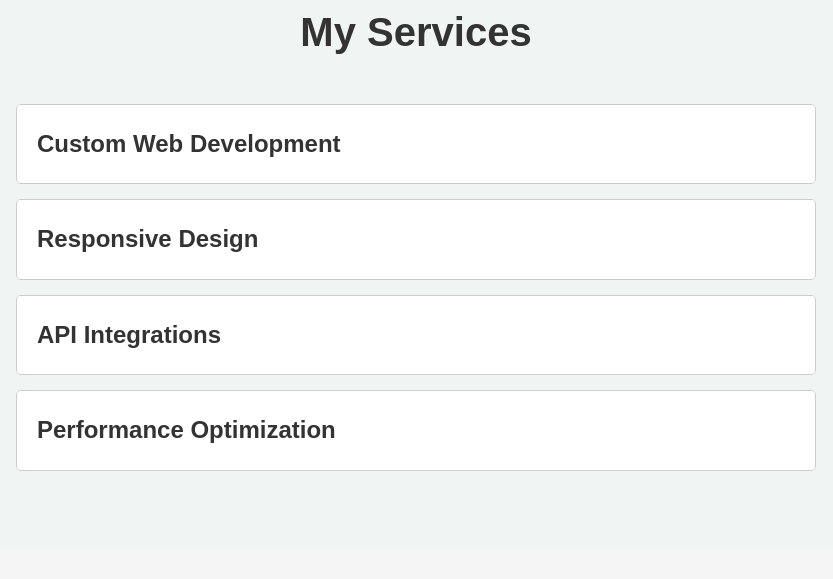
renders Services component and expands accordion items on click
Expected: the text "Responsive Design" is shown, [17, 200, 815, 279]
Expected: the text "API Integrations" is shown, [17, 296, 815, 374]
# Test clicking on accordion to expand content
Step 1. Click the text "Custom Web Development" → click(416, 144), box [17, 105, 815, 183]
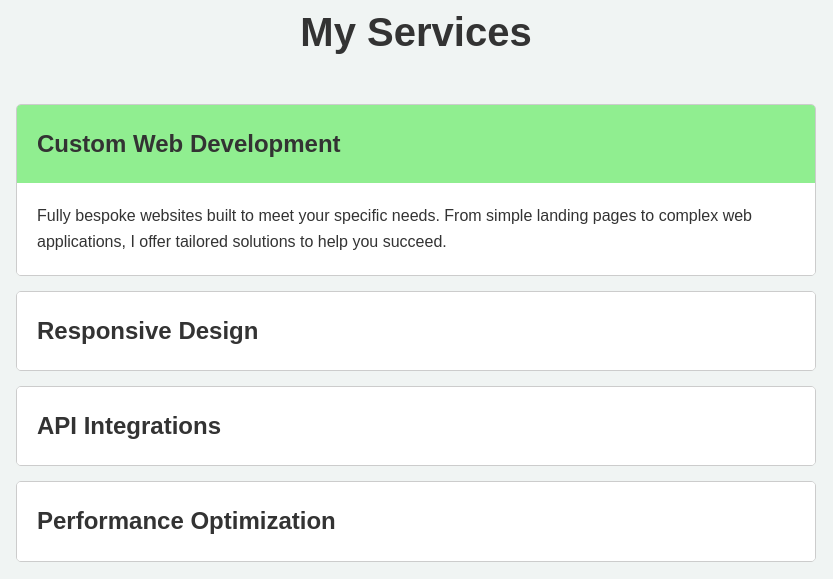
Now the text "Fully bespoke websites built to meet your specific needs" is shown, box [37, 207, 752, 250]
Step 2. Click the text "Responsive Design" → click(416, 331), box [17, 292, 815, 370]
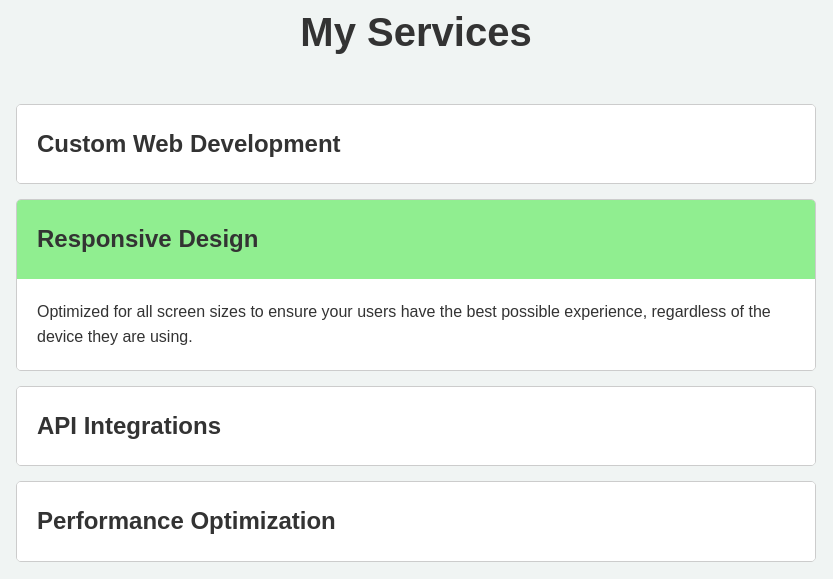
Now the text "Optimized for all screen sizes to ensure your users have the best possible experience" is shown, box [37, 303, 771, 345]
